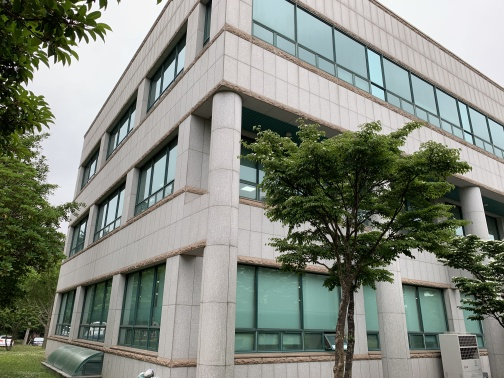Second Library: (70, 7, 483, 375)
